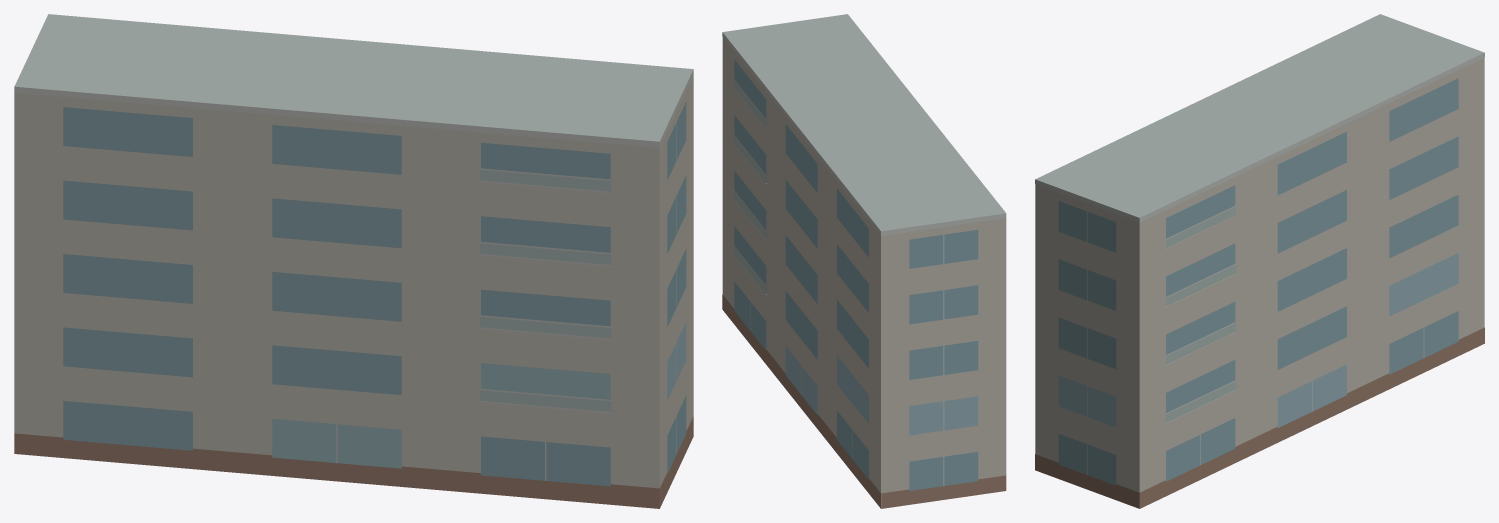
Rendered from survey-upis-32609602.glb.
3 views of the same model, side by side, from view 1: azimuth 30°, elevation 25°; view 2: azimuth 150°, elevation 25°; view 3: azimuth 270°, elevation 25° (orthographic). The views are drawn at different scales.
Visible parts, largest first — view 1: survey-upis-32609602.tmp; view 2: survey-upis-32609602.tmp; view 3: survey-upis-32609602.tmp.
Boxes of the visible parts, left/top/right/bottom form: survey-upis-32609602.tmp: left=14, top=14, right=693, bottom=508; survey-upis-32609602.tmp: left=722, top=14, right=1006, bottom=508; survey-upis-32609602.tmp: left=1035, top=14, right=1484, bottom=508.
Size of the model in its own units: 22.26 by 14.8 by 20.73.
